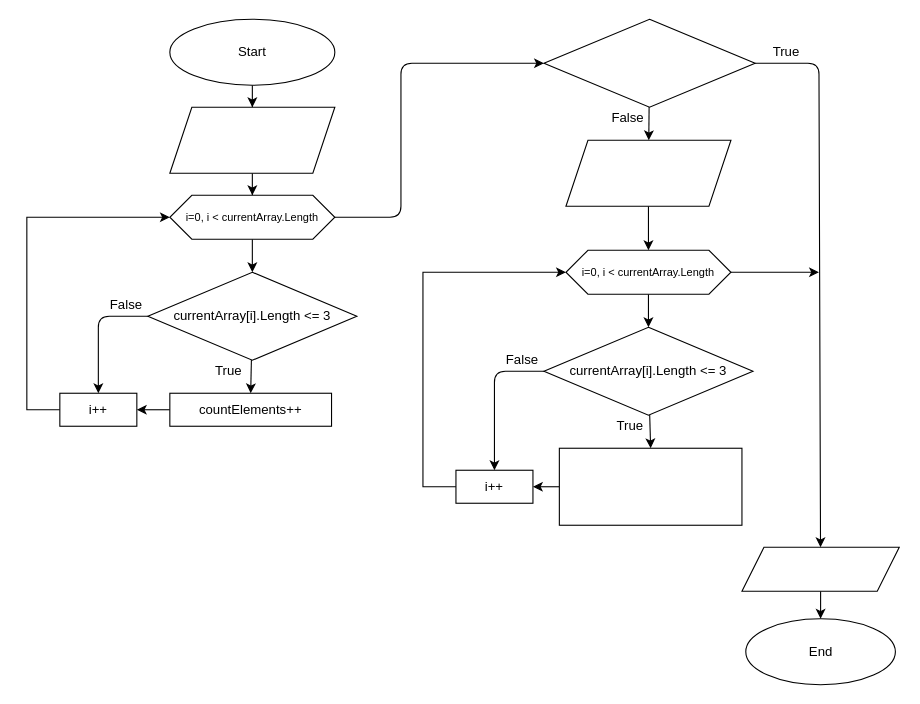
Some shapes in this 920 by 704 pixel diagram are drawn without their labels. Each missing label, with the centre of its shape:
countElements == 0: pixel 649 62
currentArray[], countElements = 0: pixel 252 139
PrintArray(newArray): pixel 820 568
temp = "", newSize = 0, newArray[]: pixel 648 172
temp = currentArray[i], newArray[newSize] = temp, newSize++: pixel 650 486
